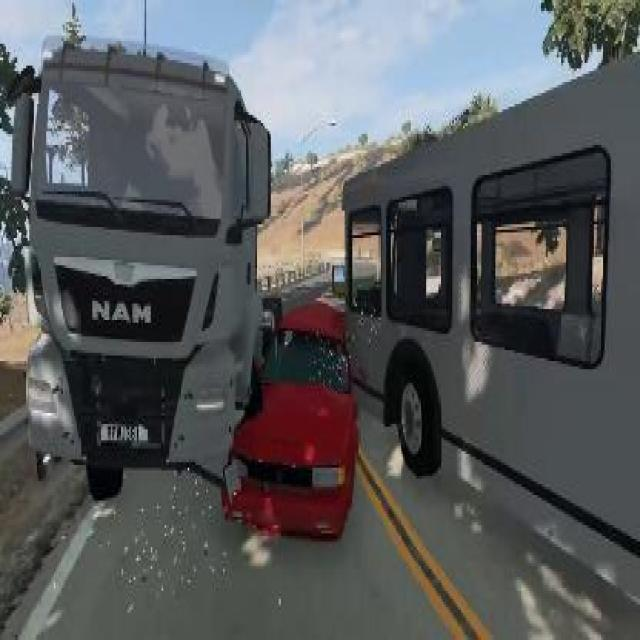accident: (17, 33, 640, 607)
